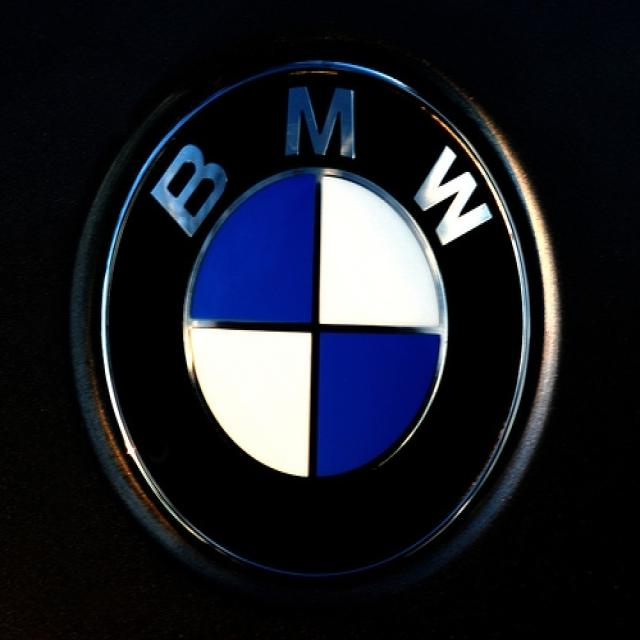bmw: (93, 54, 536, 590)
